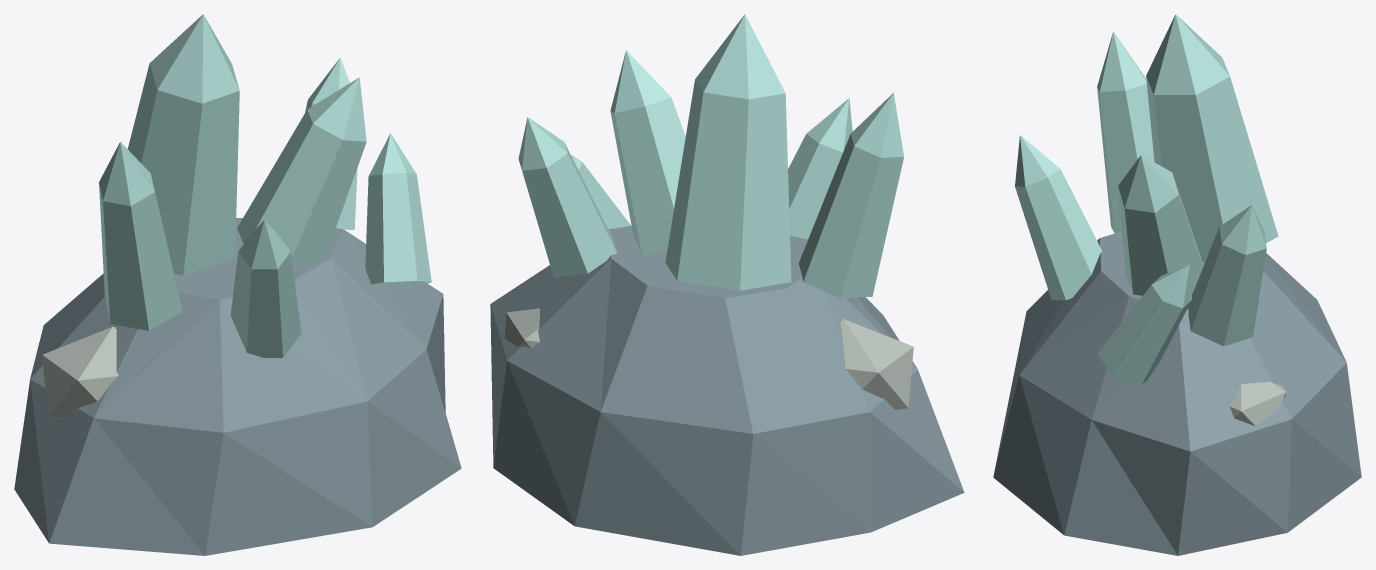
File: world_gem_vein.fbx
3 views of the same model, side by side, from view 1: azimuth 30°, elevation 25°; view 2: azimuth 150°, elevation 25°; view 3: azimuth 270°, elevation 25° (orthographic). The views are drawn at different scales.
Visible parts, largest first — view 1: world_gem_vein_mesh; view 2: world_gem_vein_mesh; view 3: world_gem_vein_mesh.
Part boxes in pixels (x1,y1,x2,y2): world_gem_vein_mesh: [14, 14, 461, 555]; world_gem_vein_mesh: [490, 14, 964, 555]; world_gem_vein_mesh: [993, 14, 1361, 555].
Bounding box in the file's own units: 0.8943 × 0.9022 × 0.6998.
